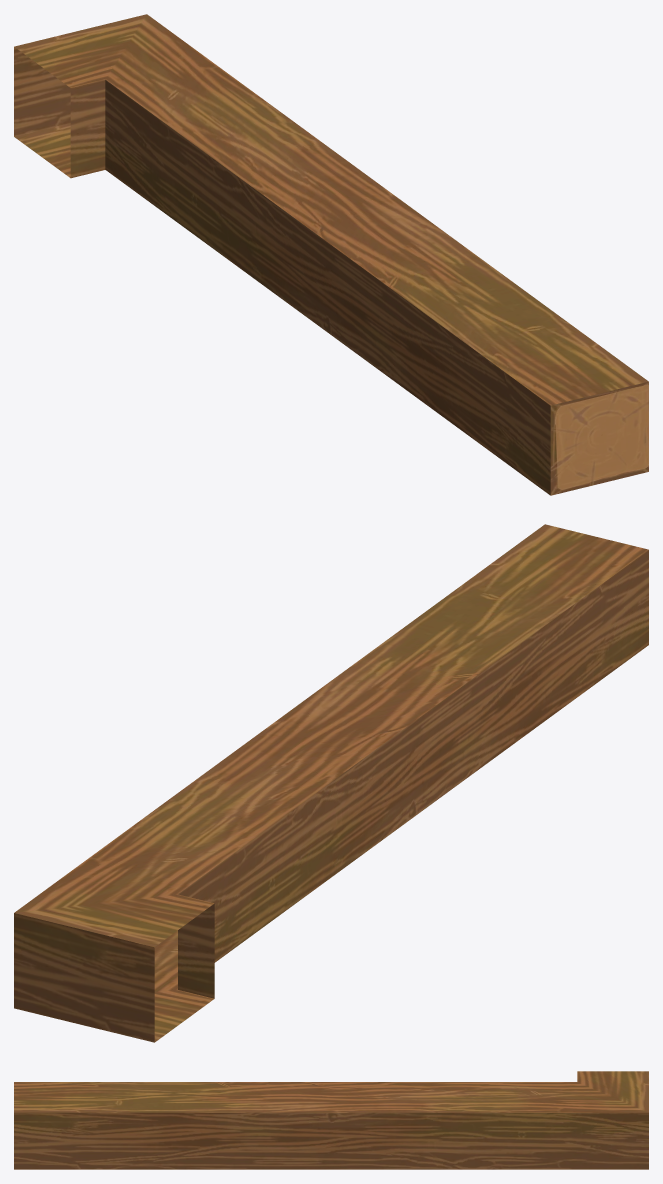
The model's file is HoleCover_90Stairs.glb.
3 renders of one model, top to bottom at view 1: azimuth 30°, elevation 25°; view 2: azimuth 150°, elevation 25°; view 3: azimuth 270°, elevation 25°, orthographic. The views are drawn at different scales.
Visible parts, largest first — view 1: HoleCover_90Stairs; view 2: HoleCover_90Stairs; view 3: HoleCover_90Stairs.
Boxes of the visible parts, x1,y1,x2,y2 form: HoleCover_90Stairs: (14, 14, 648, 495); HoleCover_90Stairs: (14, 524, 648, 1042); HoleCover_90Stairs: (14, 1071, 648, 1169).
Size of the model in its own units: 0.3242 by 0.2101 by 2.12.
1 material, 1 textured.
